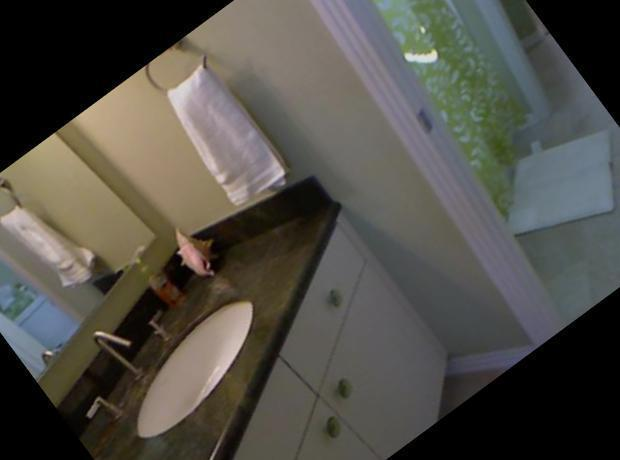Ducha: (77, 0, 620, 460)
Lavamanos: (40, 237, 297, 460)
